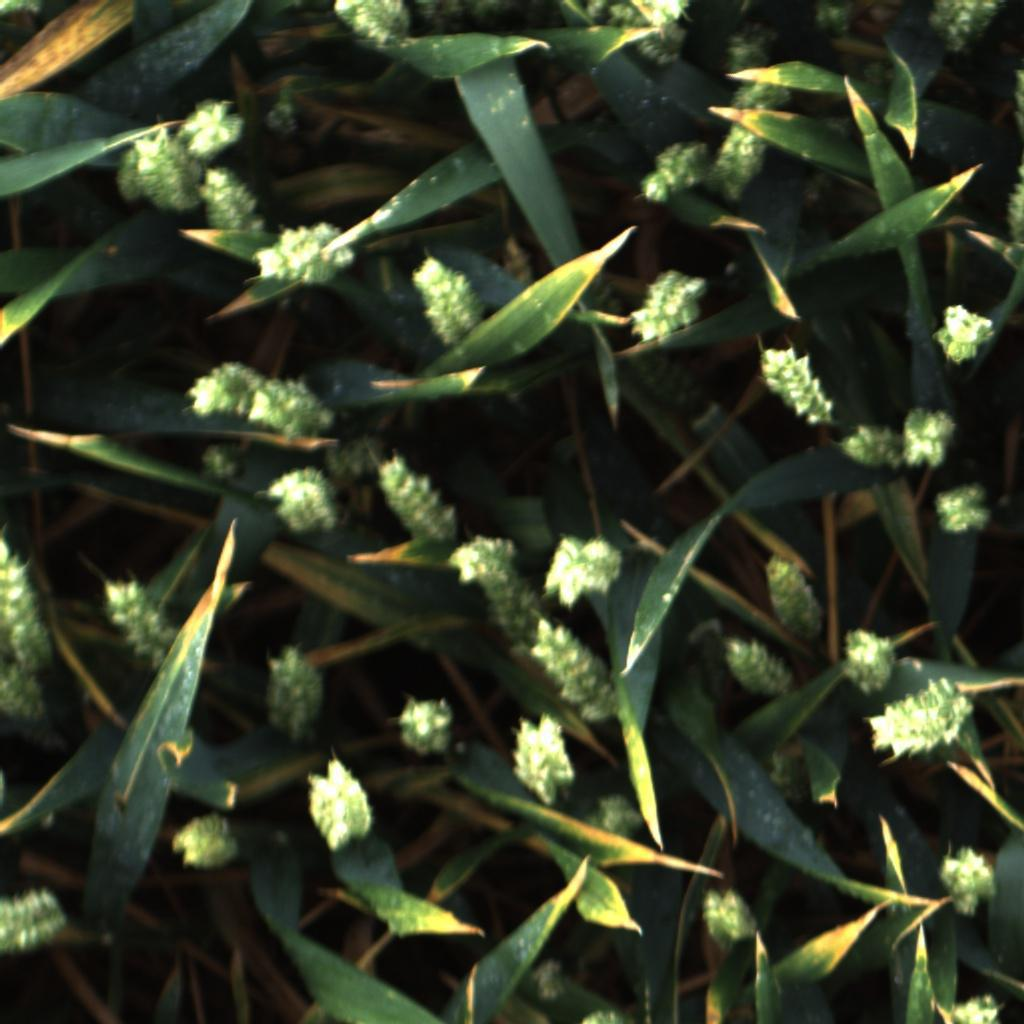0-0: (861, 676, 980, 766), (528, 608, 620, 717), (88, 570, 186, 669), (244, 639, 332, 741), (476, 547, 553, 659), (371, 450, 459, 546), (0, 531, 59, 670), (755, 336, 838, 430), (298, 759, 380, 853), (537, 527, 628, 611), (406, 254, 488, 346), (619, 267, 714, 346), (253, 220, 359, 289), (507, 709, 577, 809), (257, 463, 345, 541), (754, 553, 830, 643), (249, 371, 335, 450), (704, 110, 777, 203), (116, 131, 198, 212), (719, 626, 798, 709), (921, 295, 1005, 370), (827, 625, 907, 701), (638, 136, 716, 213), (629, 352, 711, 422), (172, 87, 250, 159), (605, 2, 688, 68), (392, 683, 460, 763), (192, 163, 268, 234), (189, 355, 268, 422), (446, 524, 527, 589), (1, 883, 71, 954), (171, 805, 240, 877), (937, 843, 1002, 917), (695, 882, 764, 951), (892, 406, 955, 476), (320, 432, 390, 491), (330, 0, 418, 46), (584, 790, 650, 850), (837, 419, 907, 475), (929, 480, 994, 540), (929, 1, 1005, 52), (0, 660, 54, 725), (768, 745, 816, 804), (933, 989, 1011, 1024), (726, 78, 793, 114), (723, 32, 773, 75), (527, 954, 568, 1004), (629, 0, 693, 31), (198, 441, 244, 479), (1004, 161, 1024, 247), (814, 0, 854, 34), (576, 1002, 637, 1023), (263, 101, 299, 135), (0, 0, 45, 18), (583, 0, 614, 21)
